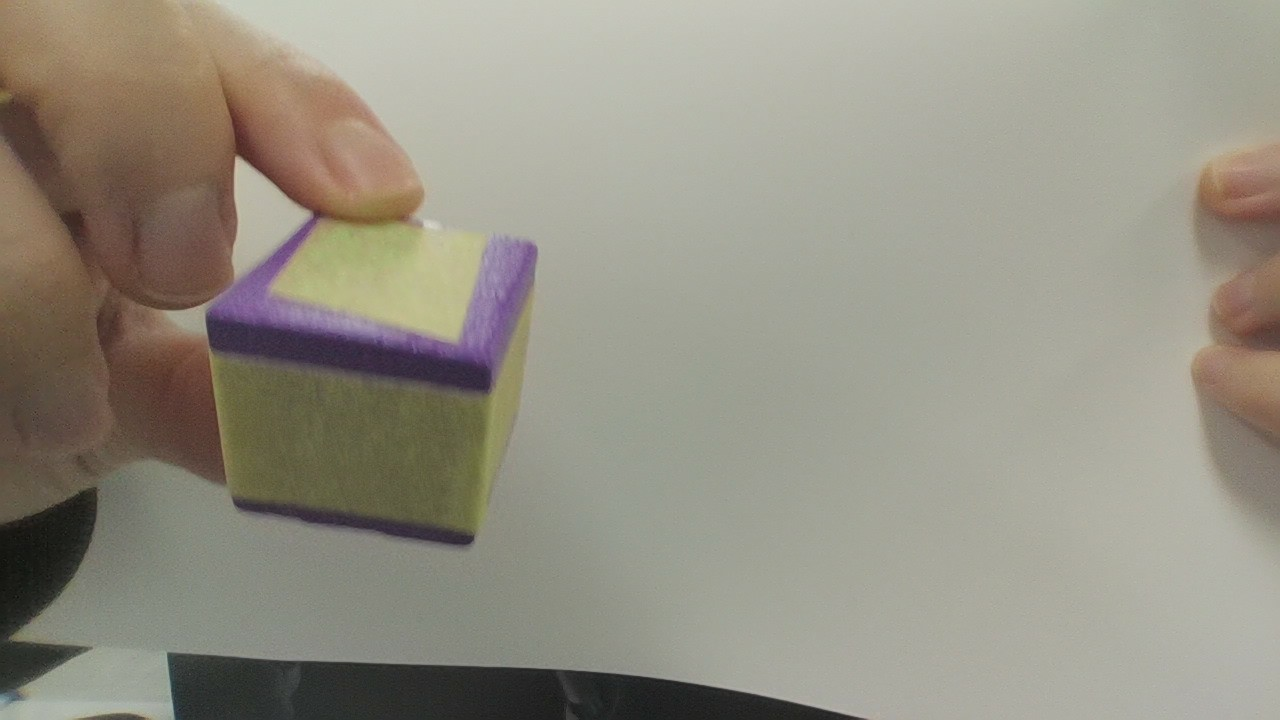Error: (239, 199, 556, 514)
